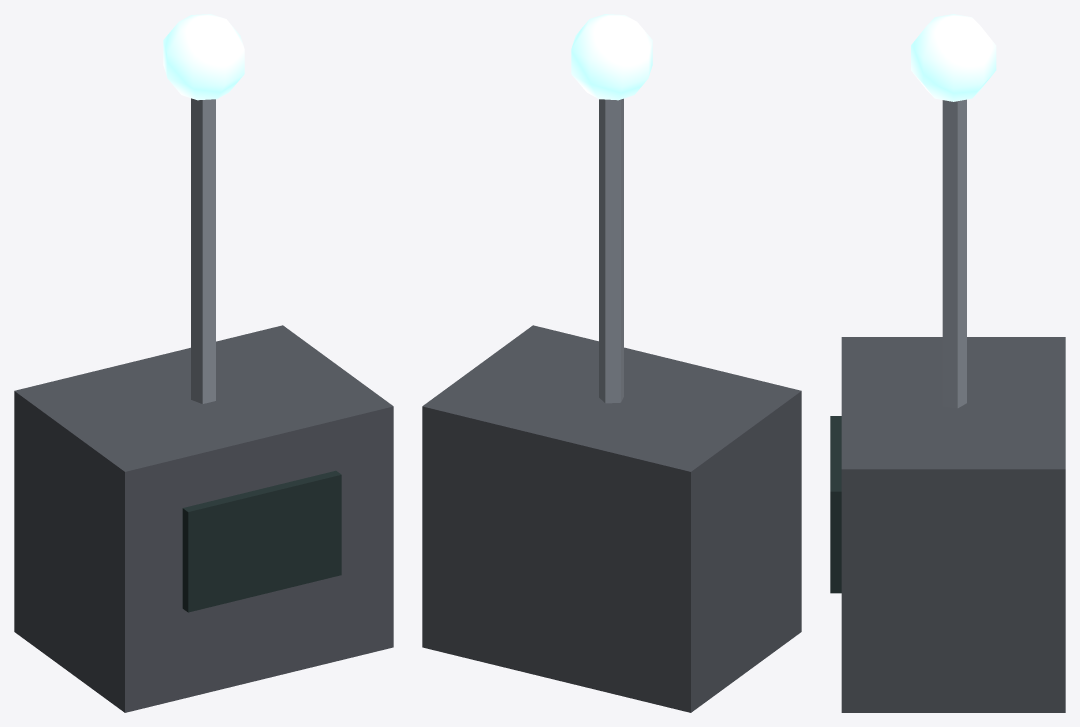
The model's file is Prop_Detector_D.fbx.
3 renders of one model, left to right at view 1: azimuth 30°, elevation 25°; view 2: azimuth 150°, elevation 25°; view 3: azimuth 270°, elevation 25°, orthographic.
Visible parts, largest first — view 1: Prop_Detector_D; view 2: Prop_Detector_D; view 3: Prop_Detector_D.
Boxes of the visible parts, x1=… form: Prop_Detector_D: x1=14, y1=14, x2=393, y2=712; Prop_Detector_D: x1=422, y1=14, x2=801, y2=712; Prop_Detector_D: x1=830, y1=14, x2=1065, y2=712.
Bounding box in the file's own units: 0.07 × 0.155 × 0.0525.
